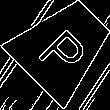P_NE: (32, 16, 94, 78)
